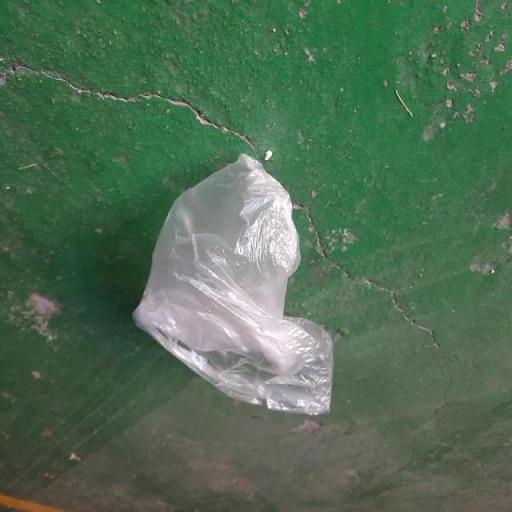plastic-bag: (129, 153, 334, 417)
